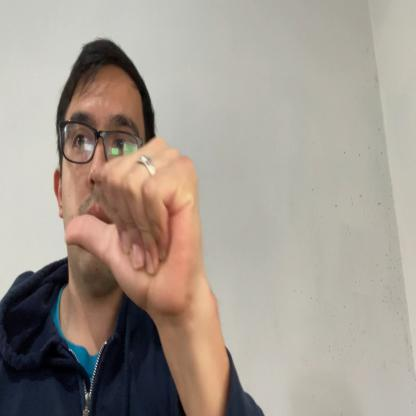A: (65, 138, 202, 320)
